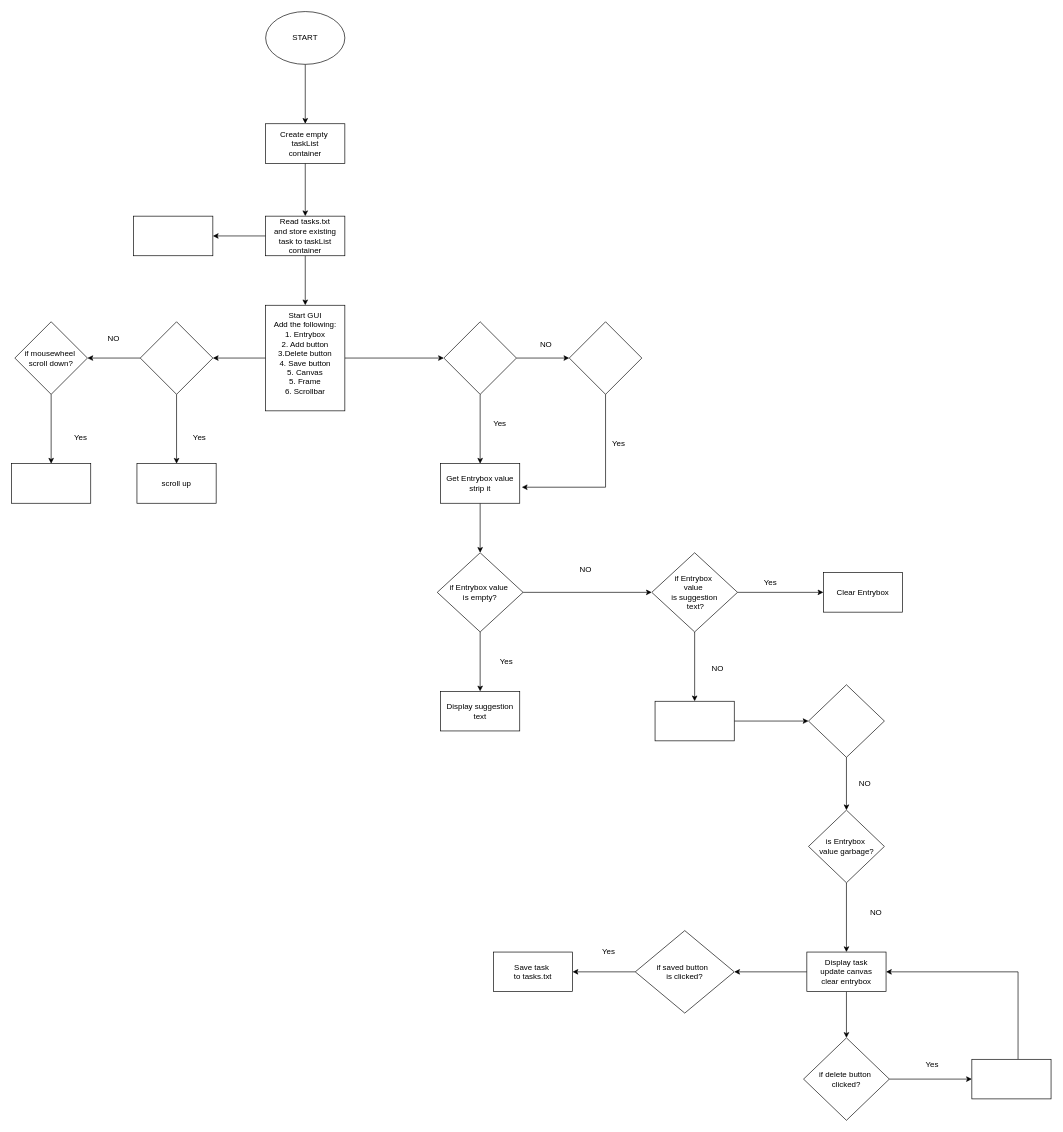
The diagram is 1063 pixels wide and 1132 high, and some of its shapes have lost their labels. Here are the shapes that lost their labels. From the top down, the centre of each, then its label:
point 173,235: through exception otherwise
point 176,357: if mousewheel scroll up?
point 479,357: if Add Button Clicked?
point 605,357: if Add Enter pressed?
point 51,483: scroll down
point 694,721: Append to taskList
point 846,720: if taskList is empty?
point 1011,1079: clear taskList
